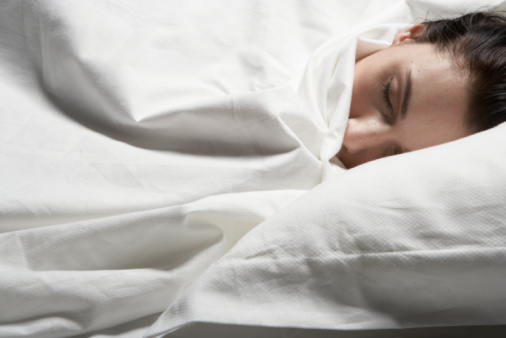deitado: (37, 0, 498, 327)
